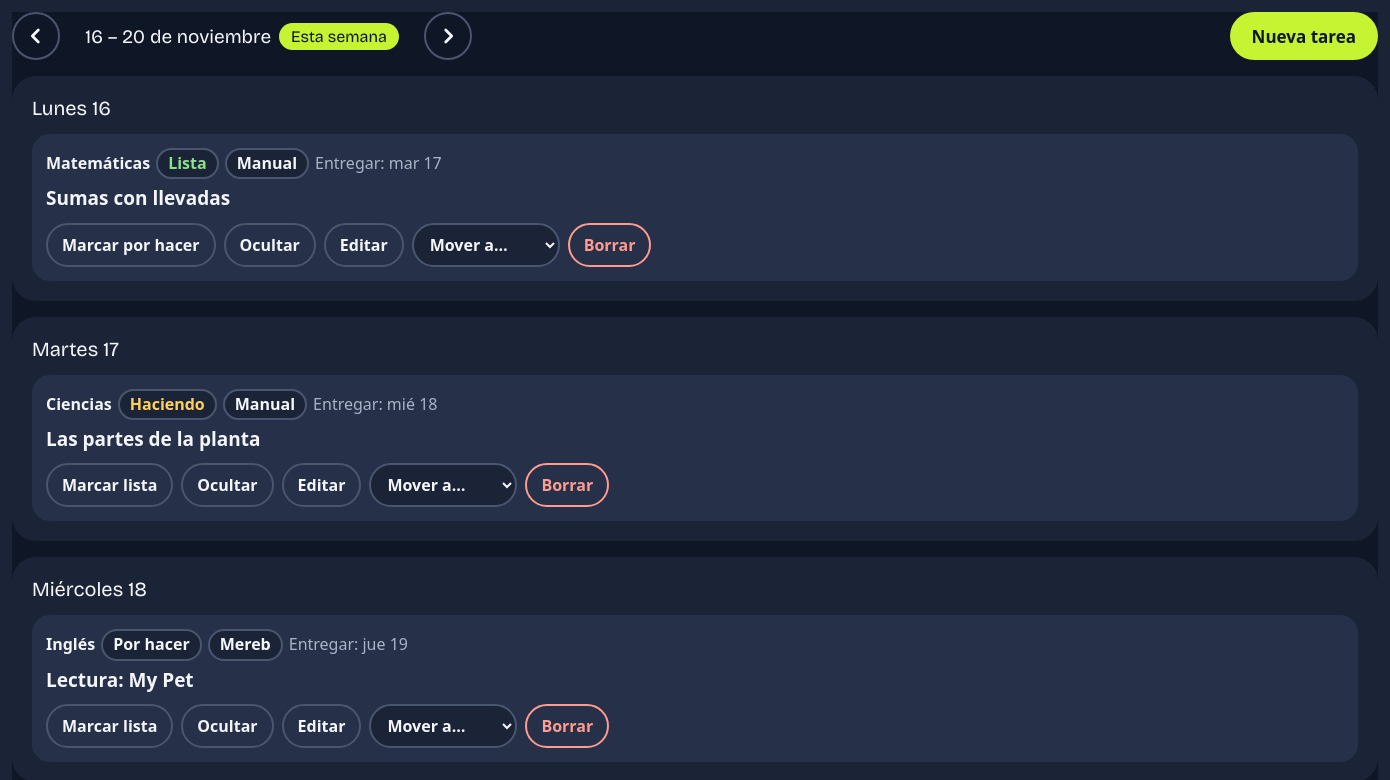
Test: TasksTab negative › cancelling the deletion calls nothing and removes the question
Click the button with aria-label "Borrar: Las partes de la planta". click: (567, 486)
box: [525,464,609,508]
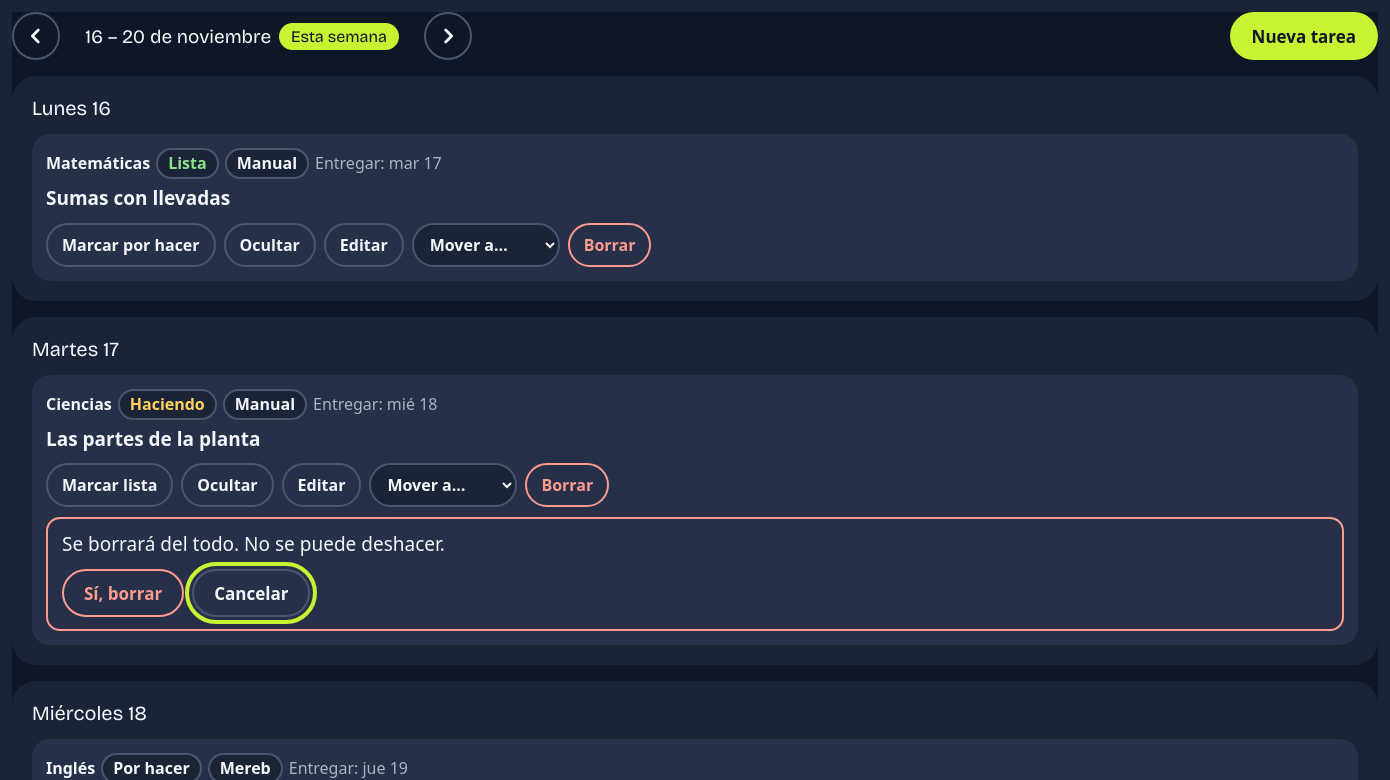
Click the button "Cancelar". click: (251, 593)
box: [192,569,310,617]
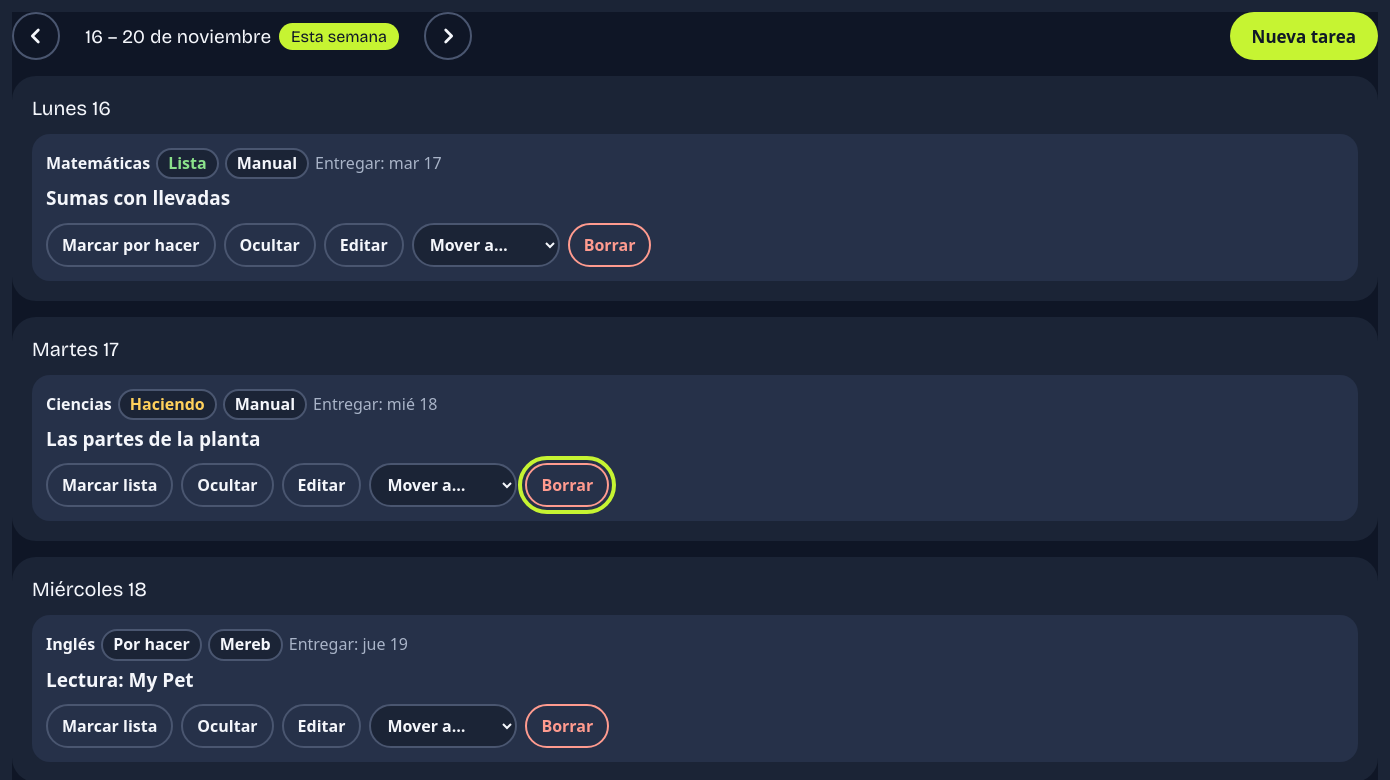
Expected: the button with aria-label "Borrar: Las partes de la planta" is shown, [525,464,609,508]
Expected: the button "Sí, borrar" is gone
